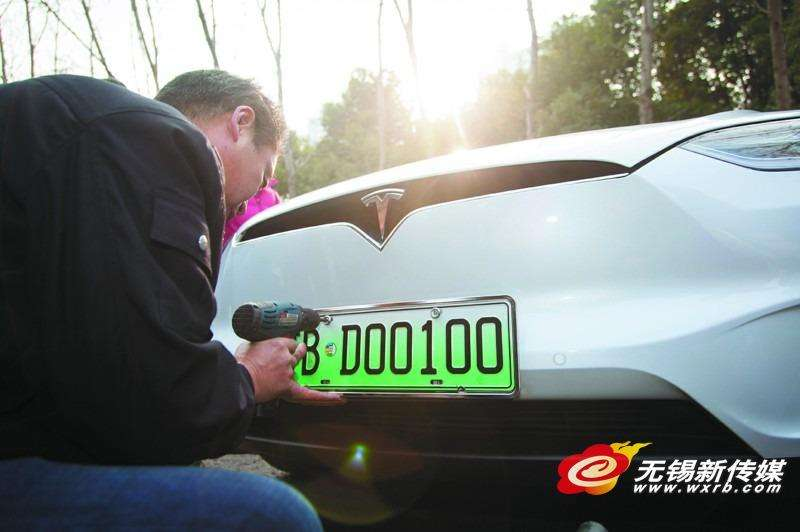plate: (260, 279, 539, 419)
